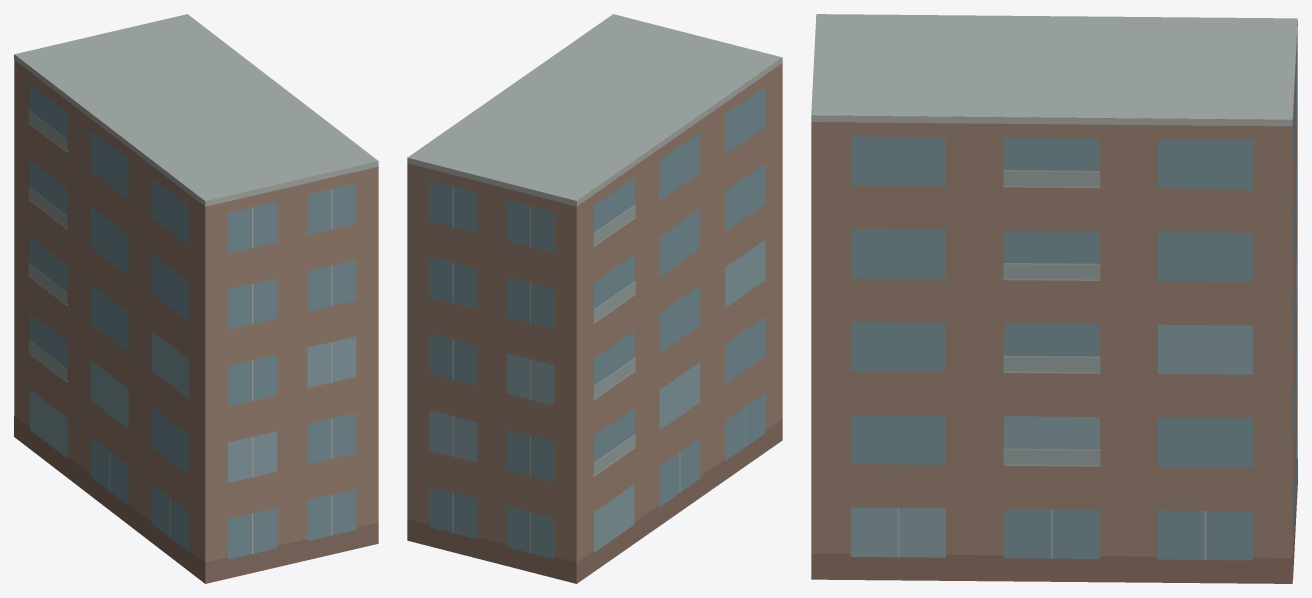
File: survey-upis-32735746.glb
3 views of the same model, side by side, from view 1: azimuth 30°, elevation 25°; view 2: azimuth 150°, elevation 25°; view 3: azimuth 270°, elevation 25° (orthographic). The views are drawn at different scales.
Parts seen in each view (by area): view 1: survey-upis-32735746.tmp; view 2: survey-upis-32735746.tmp; view 3: survey-upis-32735746.tmp.
Boxes of the visible parts, box(x1,y1,x2,y2) form: survey-upis-32735746.tmp: box(14, 14, 378, 583); survey-upis-32735746.tmp: box(407, 14, 782, 583); survey-upis-32735746.tmp: box(811, 14, 1297, 583).
Size of the model in its own units: 8.31 by 17 by 16.16.
